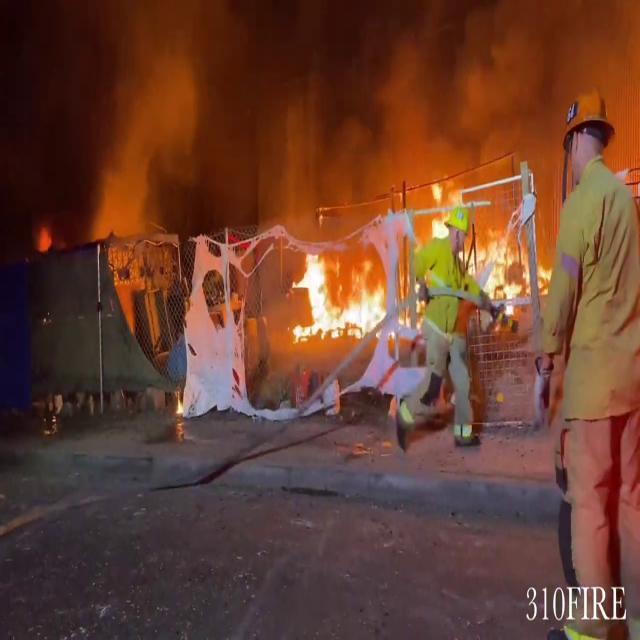Fire: (412, 159, 534, 315), (284, 243, 386, 344)
Smoke: (68, 0, 555, 278)
